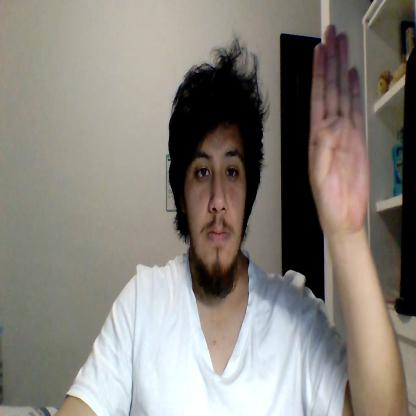B: (309, 23, 369, 234)
